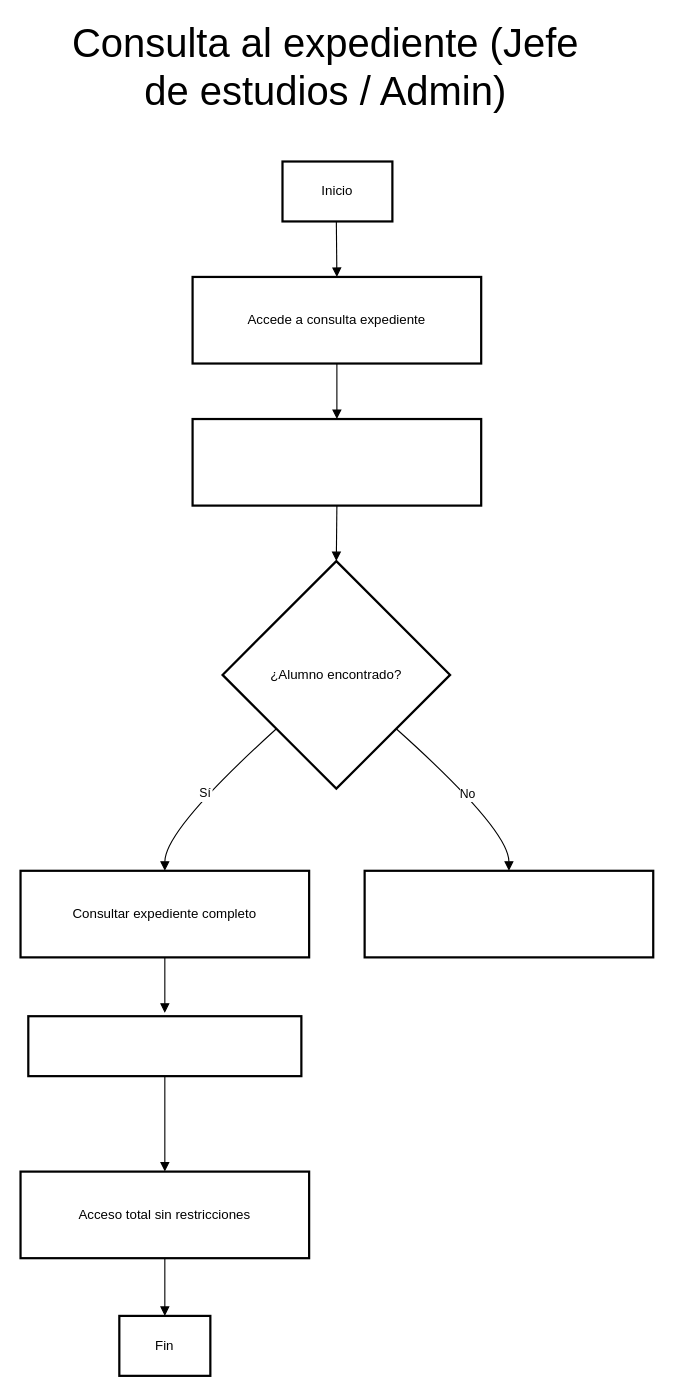
The diagram is 673 pixels wide and 1395 high, and some of its shapes have lost their labels. Each missing label, with the centre of its shape:
Buscar alumno por NIA, nombre o DNI: the point at 336,461
Mostrar mensaje: Alumno no encontrado: the point at 508,913
Mostrar todos los estudios: the point at 164,1046
